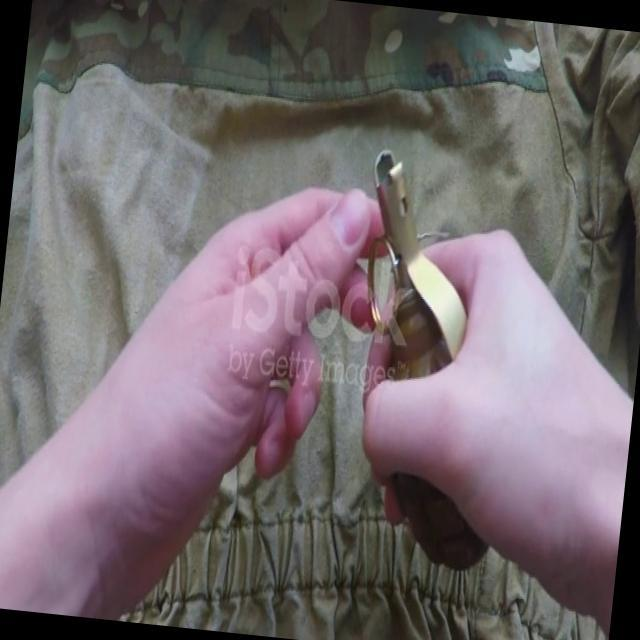grenade: (333, 137, 528, 568)
